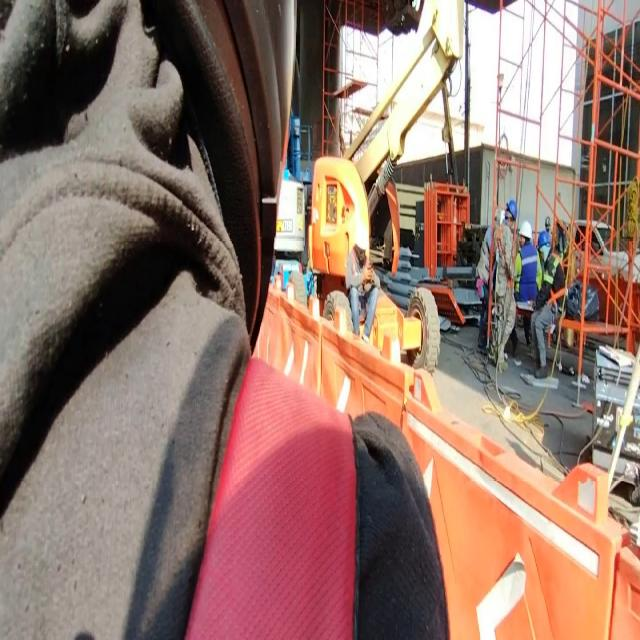adult: (527, 230, 565, 381), (476, 206, 504, 350), (512, 222, 542, 350), (495, 199, 517, 372), (347, 229, 379, 341)
